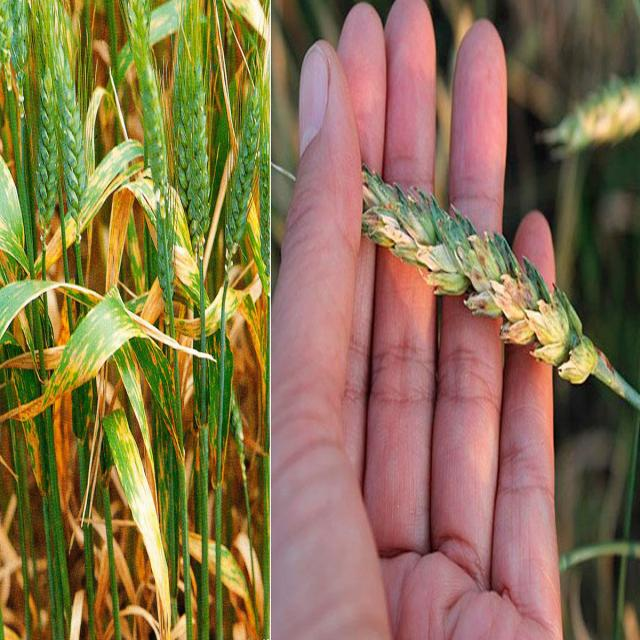wheat-septoria: (360, 169, 640, 410), (173, 191, 267, 410), (0, 296, 157, 423), (102, 410, 171, 639), (45, 141, 156, 268), (106, 189, 135, 293)
